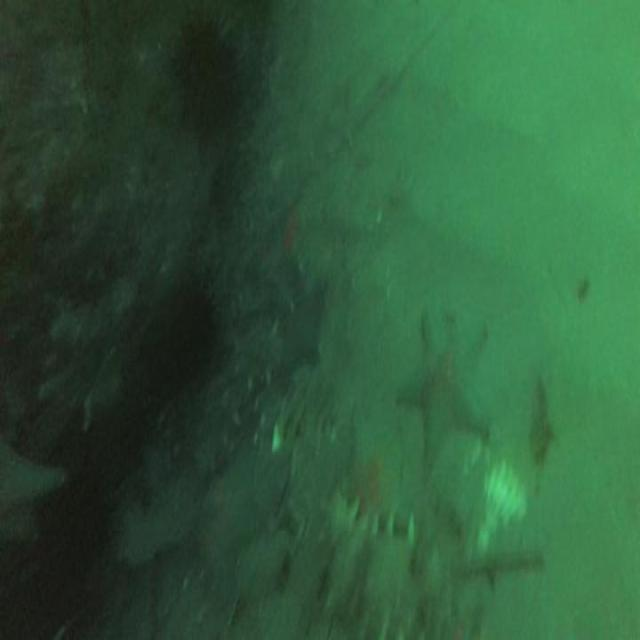echinus: (178, 33, 242, 138), (148, 290, 214, 390)
holothurian: (327, 493, 474, 640), (196, 321, 281, 477), (282, 410, 354, 530)
scallop: (477, 451, 535, 556)
starfish: (404, 298, 491, 448), (276, 280, 324, 386)
